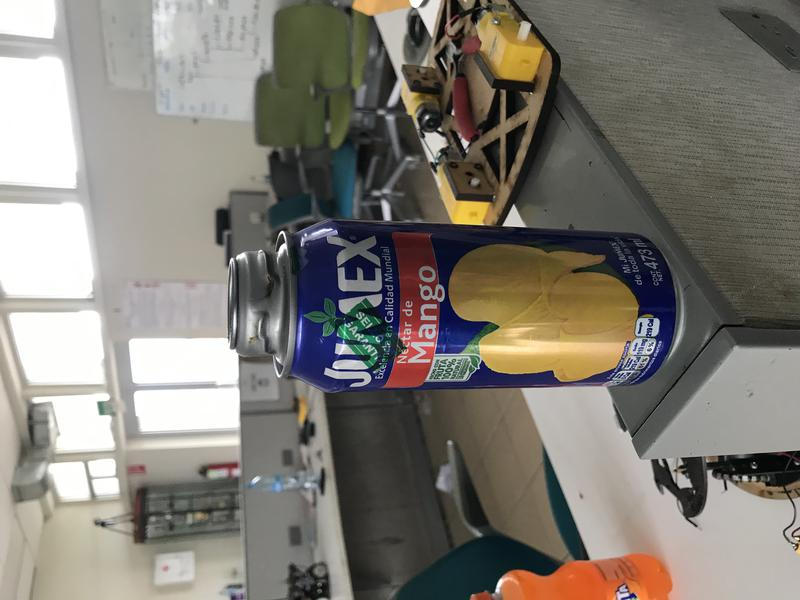fanta: (469, 554, 674, 600)
jumex_botella: (225, 219, 686, 396)
